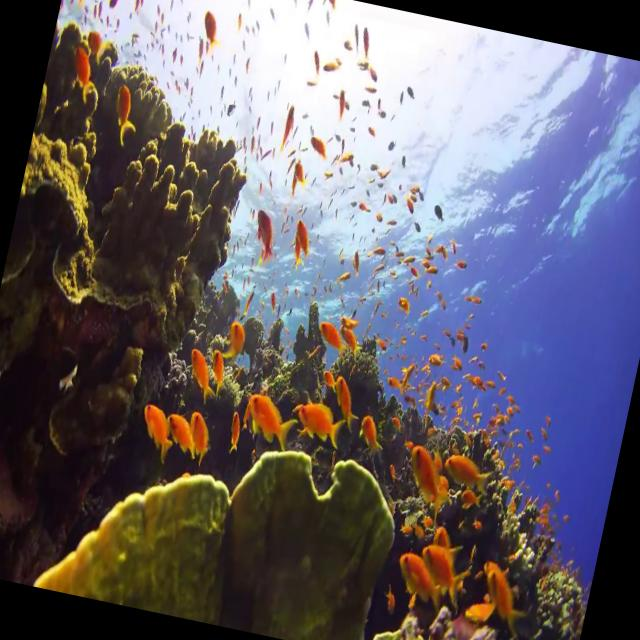fish: (401, 445, 461, 520), (391, 554, 448, 614), (439, 448, 498, 502), (290, 398, 348, 451), (240, 394, 298, 446), (134, 402, 177, 467), (324, 372, 365, 434), (182, 408, 218, 468), (248, 206, 283, 262)
